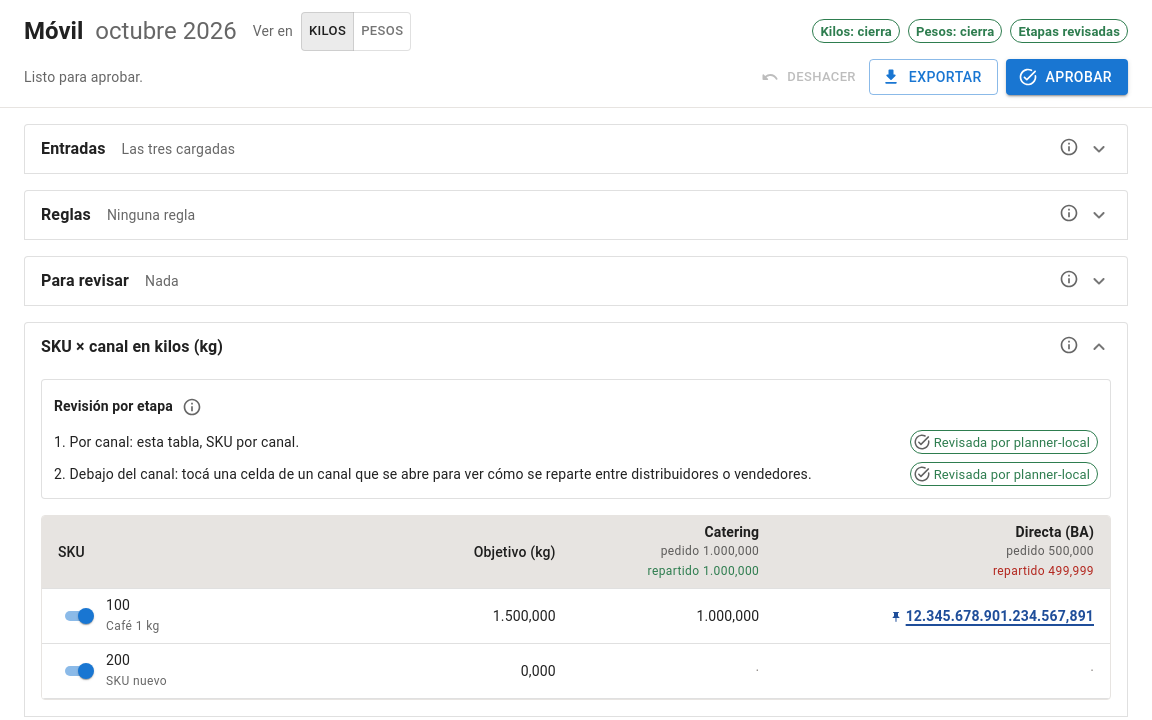
Test: MovilPage › si el backend rechaza el valor, el motivo se ve en el diálogo y no se cierra
Click the button named "100 en Catering: 1.000,000" at (673, 617), box [572,589,775,644]
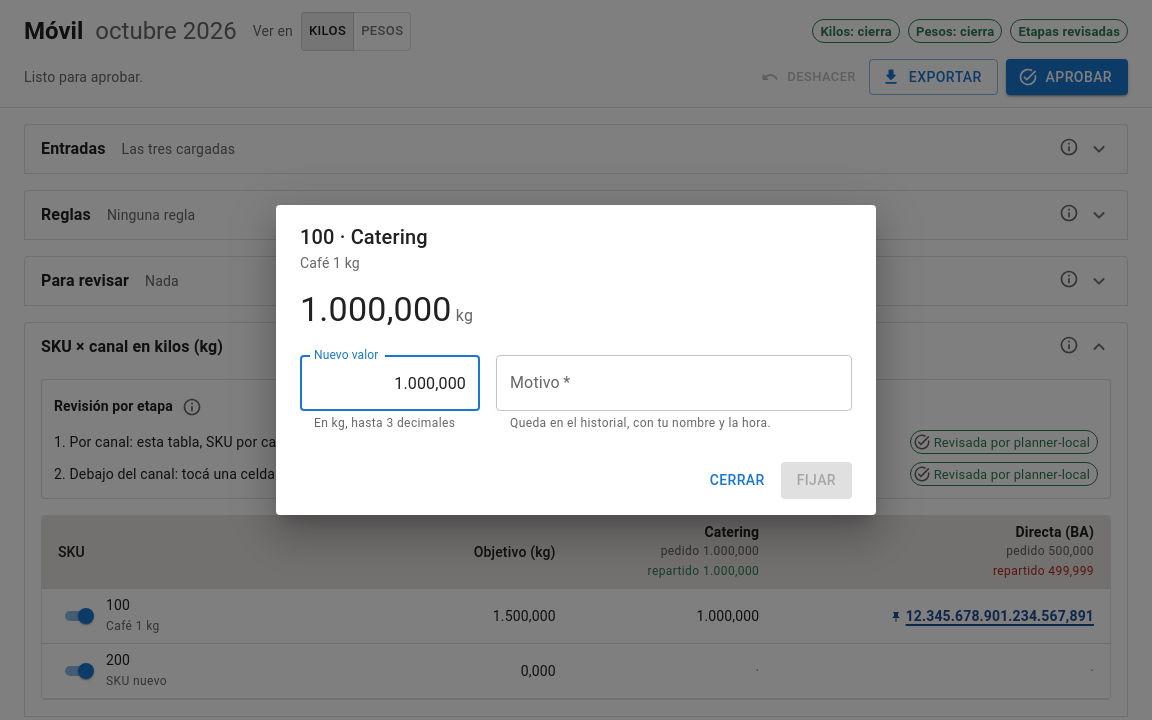
Type "x" into the field labelled "Motivo *" at (674, 383), box [496,355,852,411]
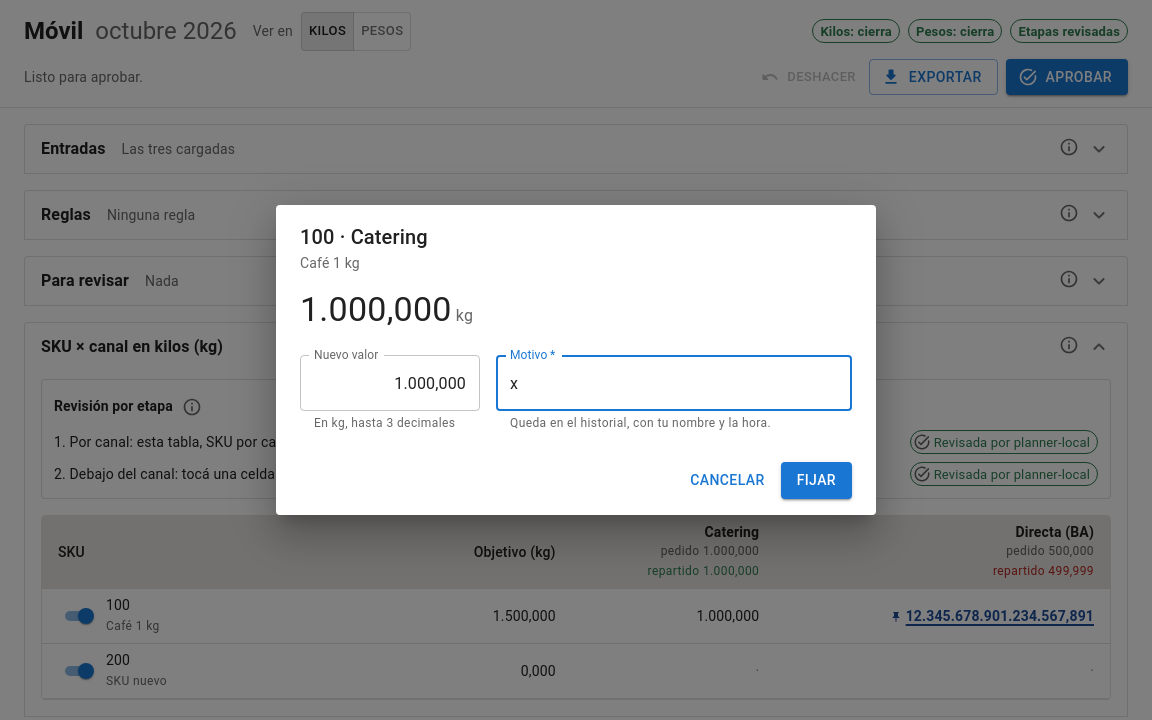
Click the button "Fijar" at (816, 480), box [781,462,852,499]
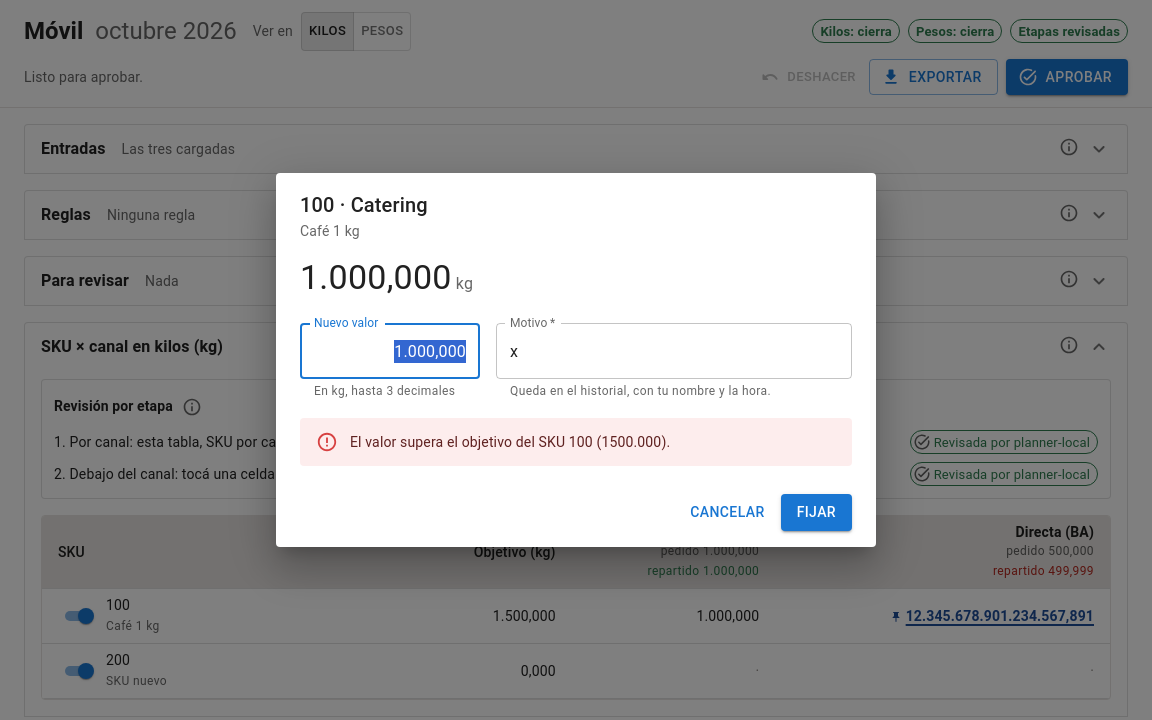
Expected: the dialog is shown, [276,173,876,547]
Expected: the text "El valor supera el objetivo del SKU 100 (1500.000)." is shown, [350,434,670,450]
